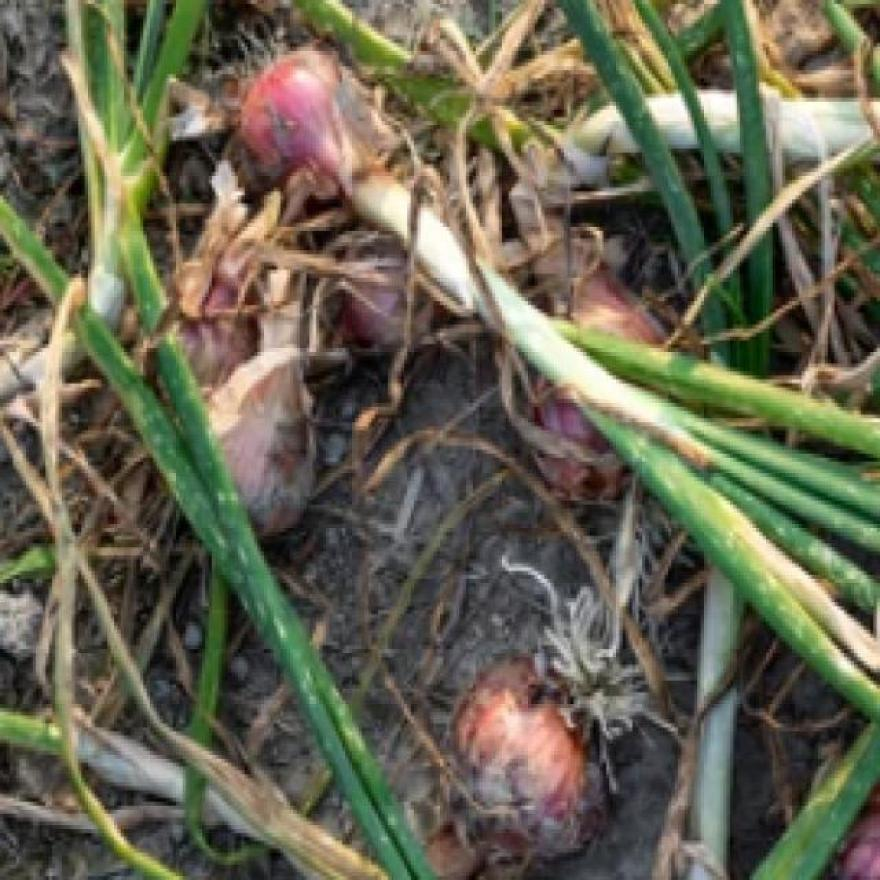Rotten: (206, 332, 312, 520), (447, 739, 580, 857)
Sprouted: (346, 176, 522, 329)
